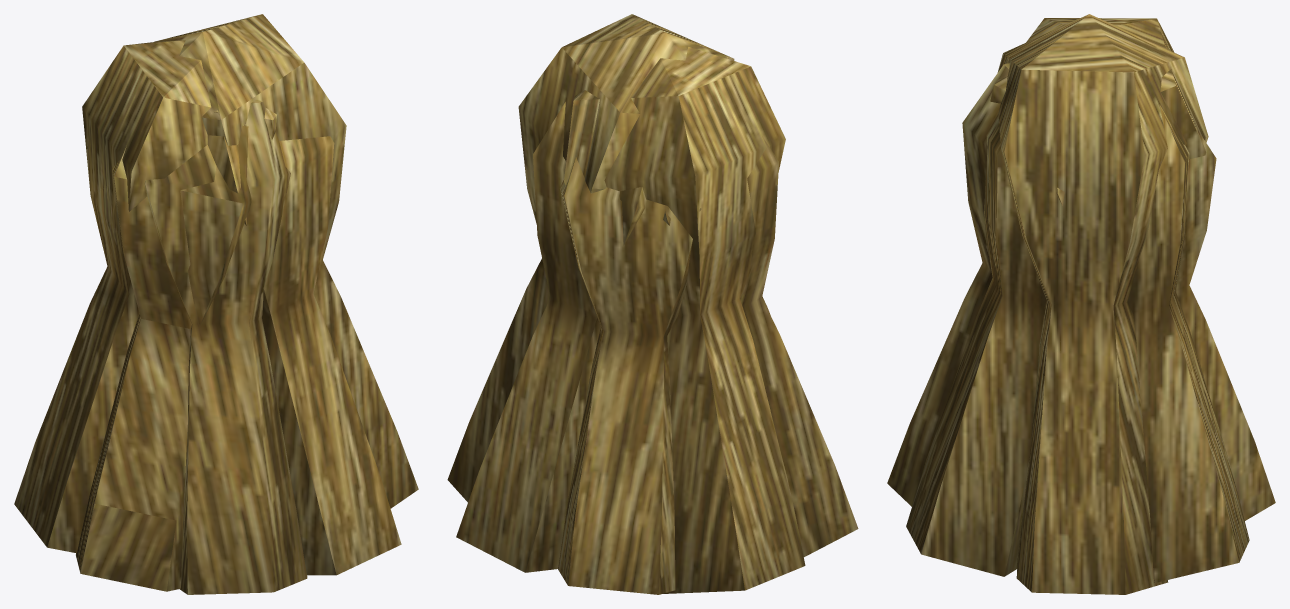
The model's file is hay_stook.glb.
3 views of the same model, side by side, from view 1: azimuth 30°, elevation 25°; view 2: azimuth 150°, elevation 25°; view 3: azimuth 270°, elevation 25° (orthographic).
Visible parts, largest first — view 1: hay_stook; view 2: hay_stook; view 3: hay_stook.
Boxes of the visible parts, <box> form: hay_stook: <box>14,14,418,594</box>; hay_stook: <box>447,14,858,594</box>; hay_stook: <box>887,14,1275,594</box>.
Size of the model in its own units: 0.8493 by 1.15 by 0.7965.
Materials: 1 (1 with a texture image).
